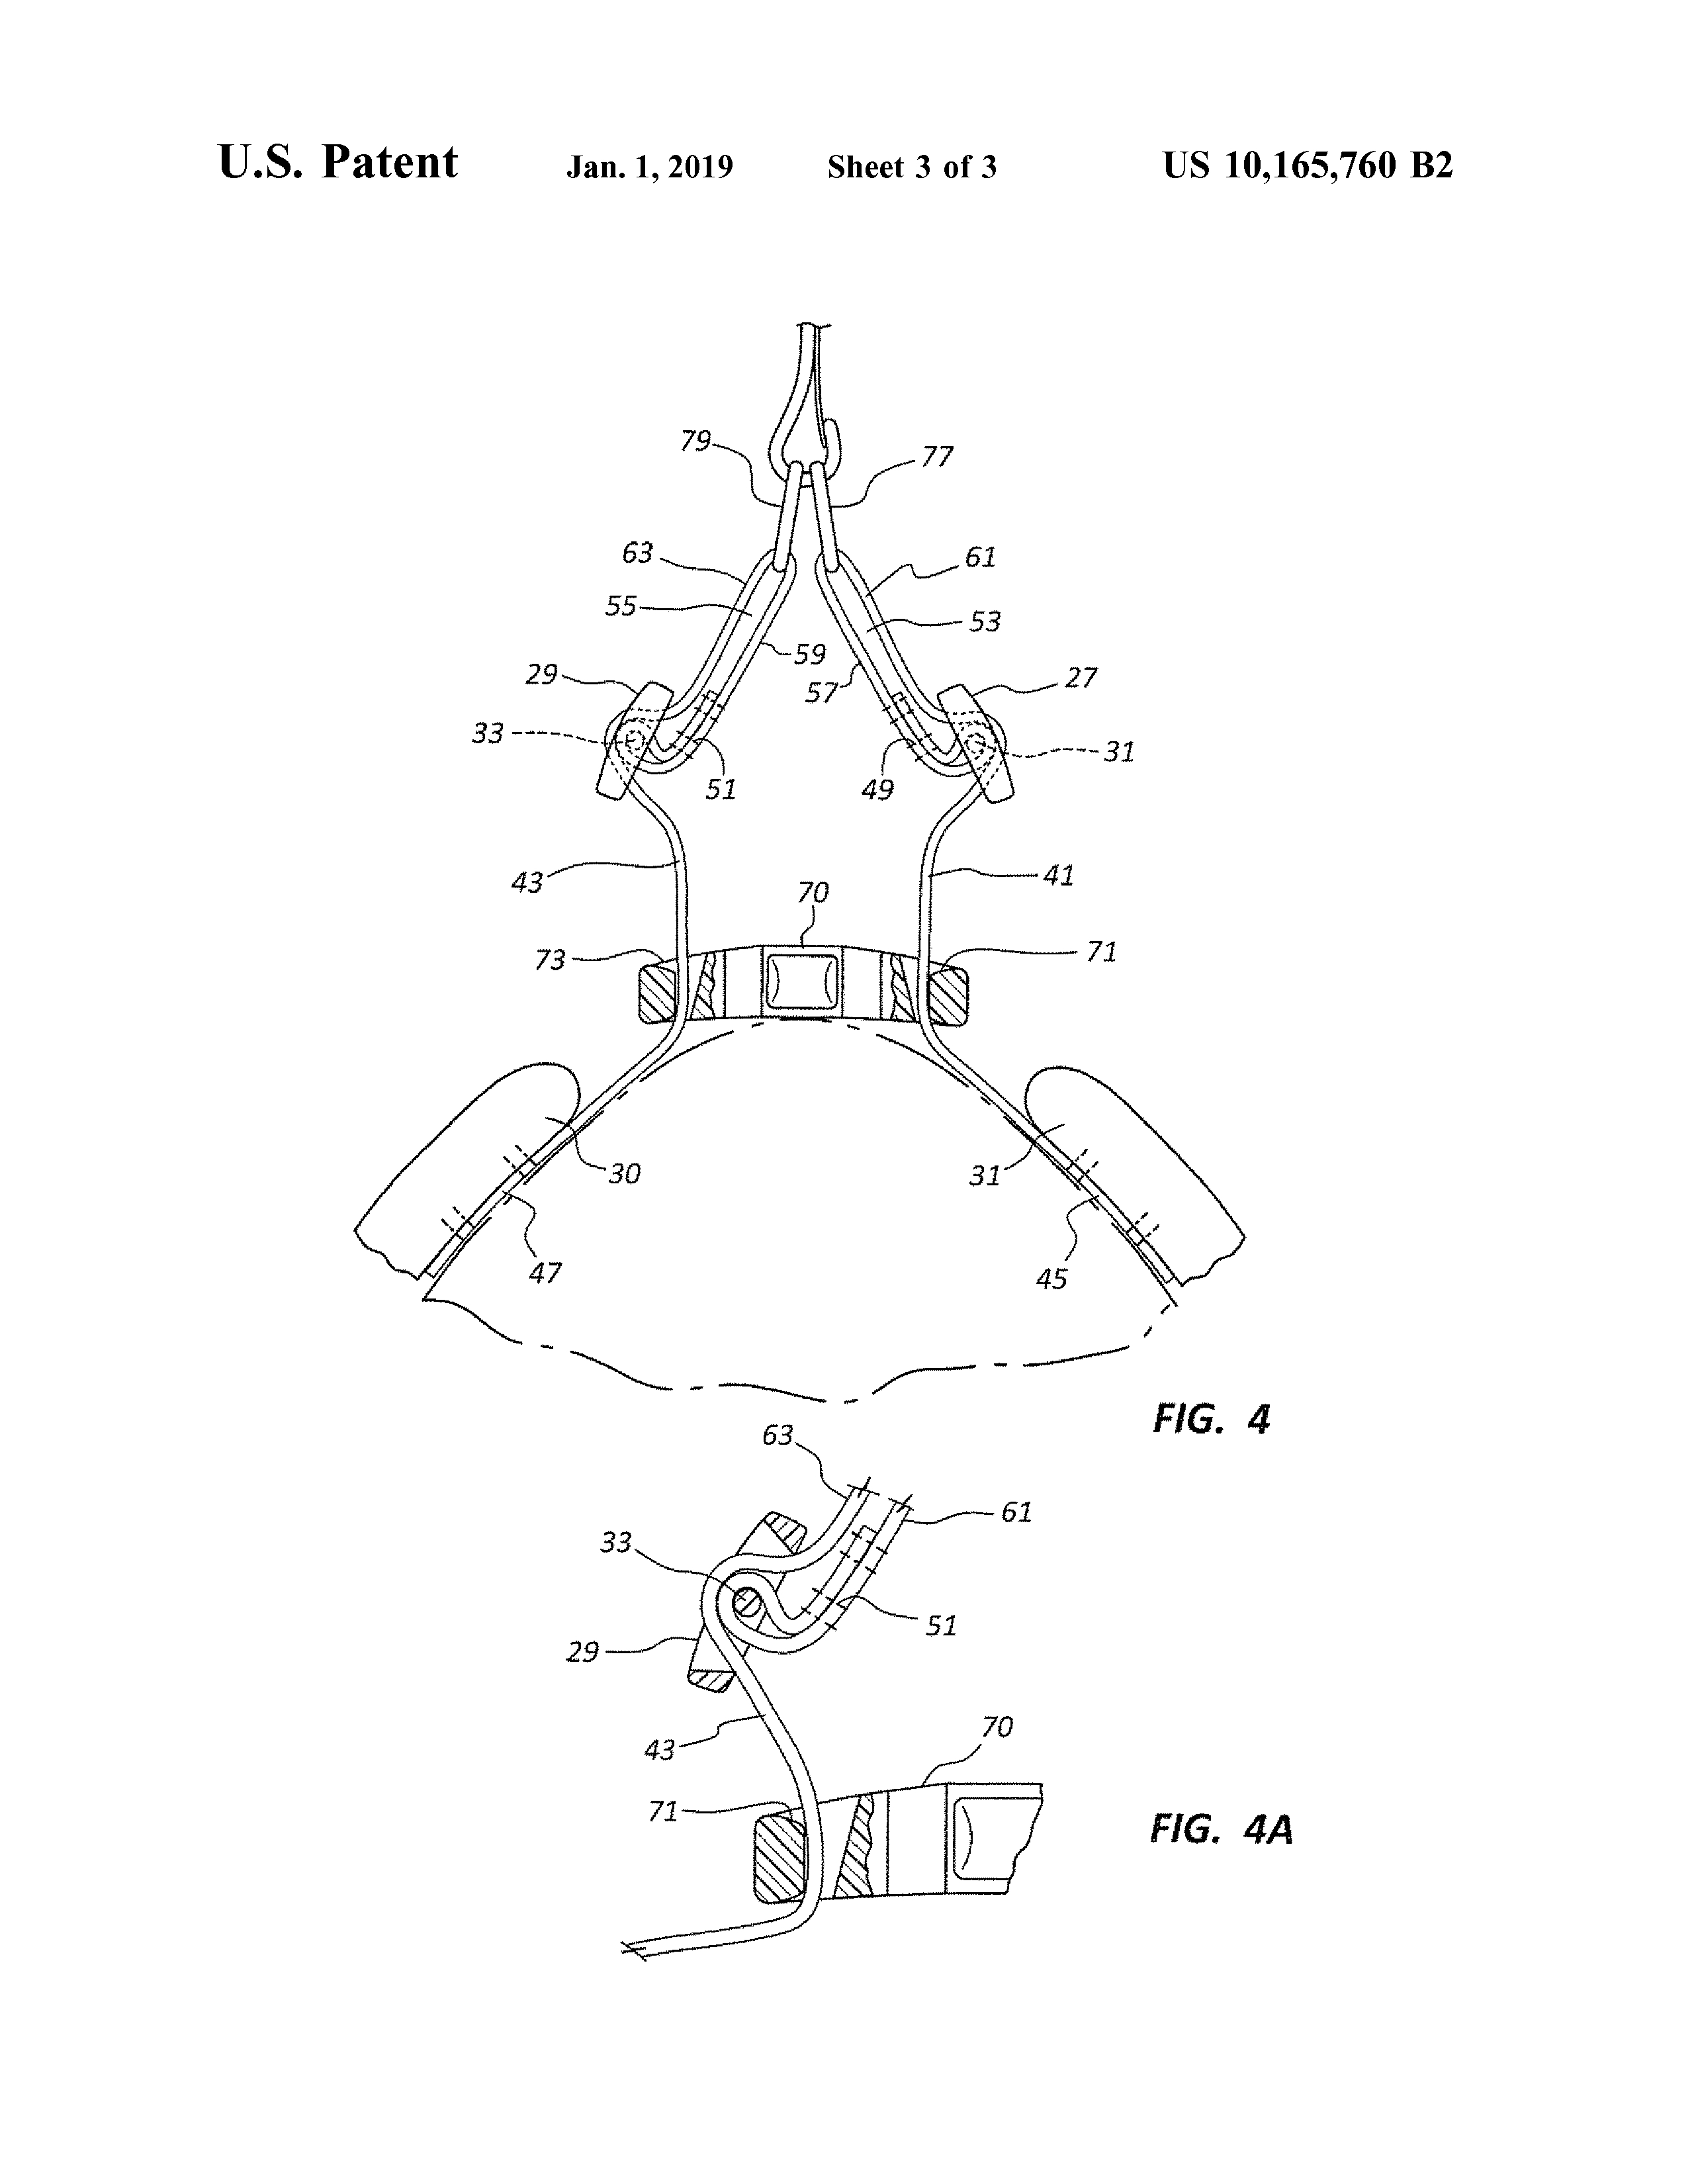patent image: (330, 279, 1369, 1437), (545, 1417, 1312, 1985)
